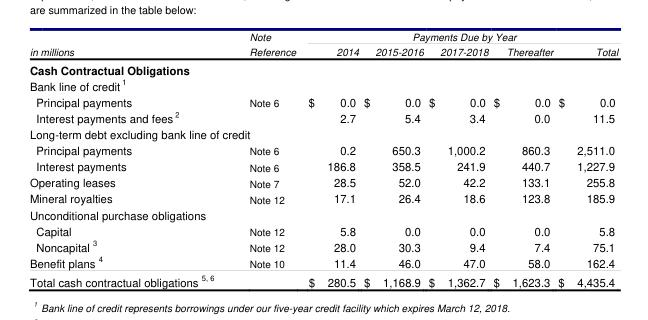table: (28, 29, 617, 289)
table column: (28, 29, 230, 289), (230, 29, 301, 289), (360, 29, 425, 289), (425, 29, 490, 289), (490, 29, 554, 289), (554, 29, 617, 289), (301, 29, 360, 289)
table column header: (28, 29, 617, 59)
table projected row header: (28, 59, 617, 76), (28, 76, 617, 93), (28, 125, 617, 141), (28, 206, 617, 222)
table row: (28, 253, 617, 271), (28, 271, 617, 289), (28, 59, 617, 76), (28, 76, 617, 93), (28, 108, 617, 125), (28, 189, 617, 206), (28, 43, 617, 59), (28, 125, 617, 141), (28, 141, 617, 157), (28, 157, 617, 173), (28, 173, 617, 189), (28, 206, 617, 222), (28, 237, 617, 253), (28, 93, 617, 108), (28, 222, 617, 237), (28, 29, 617, 43)
table spanning cell: (28, 29, 230, 59), (301, 29, 617, 43), (230, 29, 301, 59)
